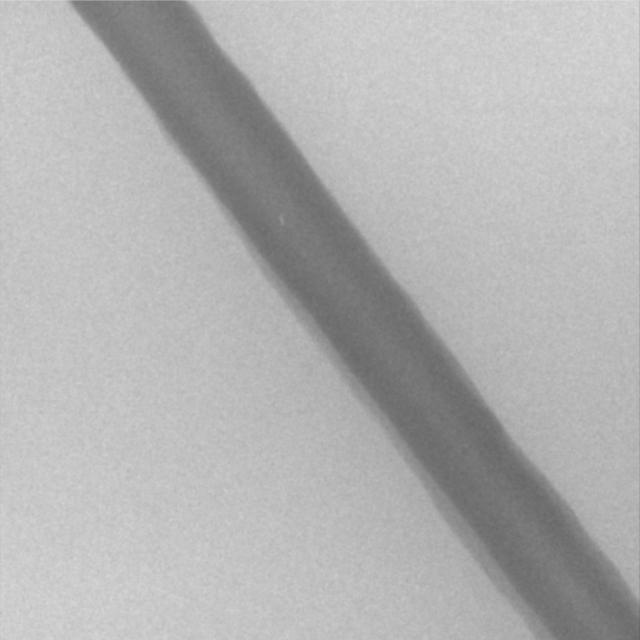air hole: (277, 216, 285, 225)
